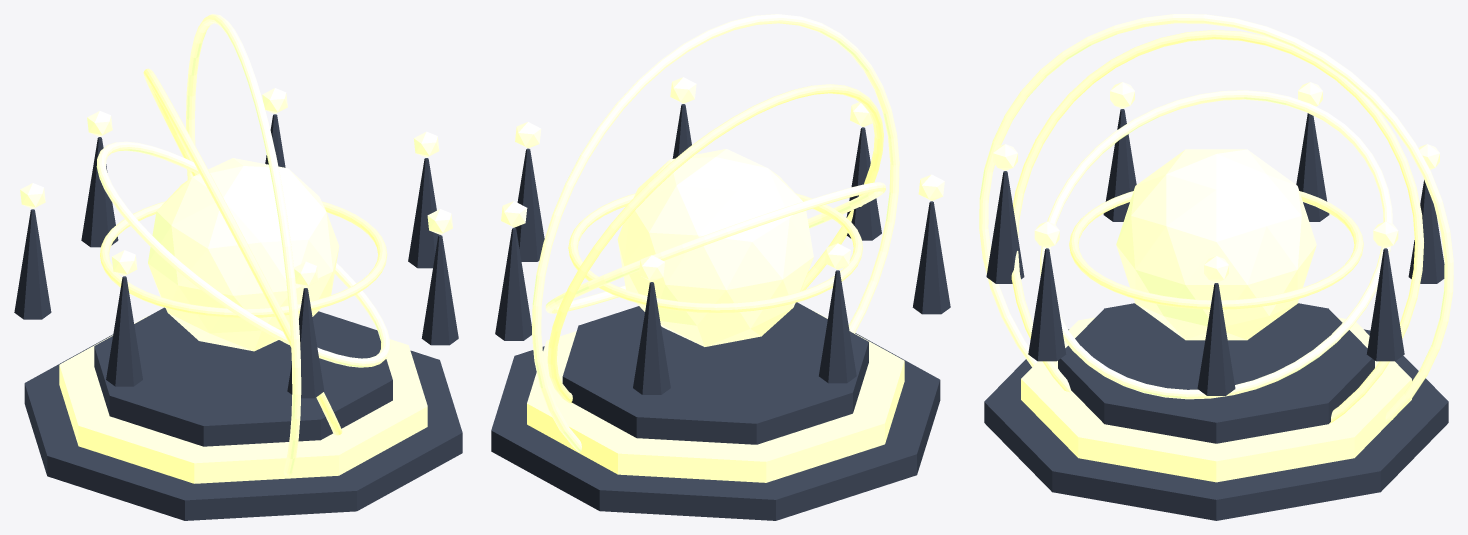
File: gpu-blender-v1.glb
The picture shows the model from 3 angles, left to right: view 1: azimuth 30°, elevation 25°; view 2: azimuth 150°, elevation 25°; view 3: azimuth 270°, elevation 25°; orthographic projection. The views are drawn at different scales.
Visible parts, largest first — view 1: Cylinder.002, SovereignCore_zoth-relay, Cylinder, Cylinder.001, Torus.003, Torus.001, Torus, Torus.002, Cone.003, Cone.006, Cone.004, Cone (+8 smaller); view 2: Cylinder.002, SovereignCore_zoth-relay, Cylinder, Cylinder.001, Torus.003, Torus.002, Torus.001, Torus, Cone.003, Cone.004, Cone.002, Cone.001 (+9 smaller); view 3: SovereignCore_zoth-relay, Cylinder.002, Cylinder, Cylinder.001, Torus.003, Torus.002, Torus.001, Torus, Cone.001, Cone.006, Cone, Cone.005 (+5 smaller).
Boxes of the visible parts, bbox=[...] form: Cylinder.002: bbox=[94, 307, 392, 446]; SovereignCore_zoth-relay: bbox=[148, 158, 339, 351]; Cylinder: bbox=[24, 334, 462, 520]; Cylinder.001: bbox=[59, 315, 427, 483]; Torus.003: bbox=[186, 14, 301, 476]; Torus.001: bbox=[96, 141, 390, 367]; Torus: bbox=[100, 201, 387, 317]; Torus.002: bbox=[143, 68, 342, 435]; Cone.003: bbox=[14, 209, 51, 319]; Cone.006: bbox=[421, 235, 458, 345]; Cone.004: bbox=[106, 276, 142, 386]; Cone: bbox=[408, 158, 440, 268]; Cylinder.002: bbox=[562, 302, 868, 444]; SovereignCore_zoth-relay: bbox=[617, 149, 813, 346]; Cylinder: bbox=[491, 333, 940, 520]; Cylinder.001: bbox=[527, 310, 904, 482]; Torus.003: bbox=[532, 14, 899, 452]; Torus.002: bbox=[547, 84, 883, 403]; Torus.001: bbox=[545, 182, 885, 313]; Torus: bbox=[568, 193, 862, 312]; Cone.003: bbox=[819, 270, 856, 383]; Cone.004: bbox=[912, 201, 950, 314]; Cone.002: bbox=[633, 282, 670, 394]; Cone.001: bbox=[495, 228, 531, 340]; SovereignCore_zoth-relay: bbox=[1116, 149, 1316, 340]; Cylinder.002: bbox=[1058, 303, 1374, 443]; Cylinder: bbox=[984, 329, 1448, 520]; Cylinder.001: bbox=[1021, 317, 1411, 482]; Torus.003: bbox=[979, 14, 1453, 424]; Torus.002: bbox=[1011, 30, 1423, 422]; Torus.001: bbox=[1040, 90, 1392, 399]; Torus: bbox=[1069, 191, 1363, 309]; Cone.001: bbox=[1366, 248, 1404, 361]; Cone.006: bbox=[1028, 248, 1066, 361]; Cone: bbox=[1197, 283, 1235, 395]; Cone.005: bbox=[986, 171, 1024, 283].
Size of the model in its own units: 4.41 by 4.7 by 4.49.
